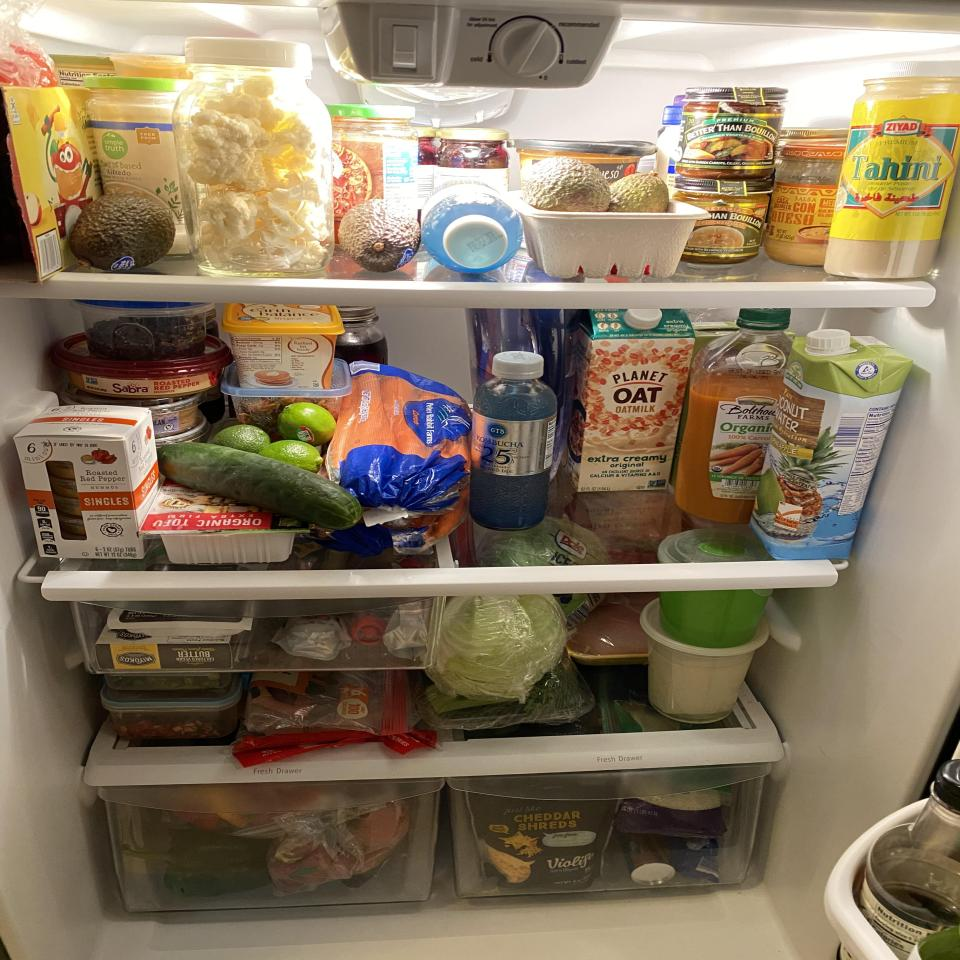Aguacate: (66, 194, 176, 270), (337, 197, 421, 271), (515, 156, 612, 214), (608, 173, 672, 213)
Carne pollo: (566, 592, 666, 665)
Lechuga/Endivia: (426, 595, 566, 703), (476, 516, 610, 623)
Mantequilla: (222, 305, 344, 387)
Pepino: (156, 442, 363, 530)
Zanahoria: (329, 360, 472, 551)
bell pepper: (116, 827, 271, 897)
lime: (276, 402, 338, 444), (260, 440, 322, 471), (213, 424, 271, 451)
